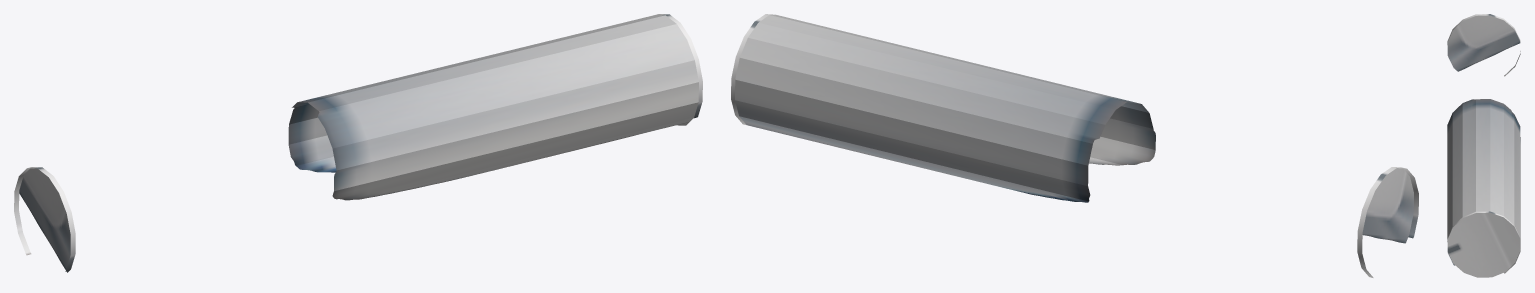
File: big_white_tube_with_gap.dae
3 views of the same model, side by side, from view 1: azimuth 30°, elevation 25°; view 2: azimuth 150°, elevation 25°; view 3: azimuth 270°, elevation 25° (orthographic). The views are drawn at different scales.
Visible parts, largest first — view 1: Cylinder_000; view 2: Cylinder_000; view 3: Cylinder_000.
Part boxes in pixels (left/top/right/bottom): Cylinder_000: left=14, top=14, right=702, bottom=272; Cylinder_000: left=731, top=14, right=1418, bottom=277; Cylinder_000: left=1447, top=14, right=1520, bottom=277.
Size of the model in its own units: 12.67 by 1.97 by 1.97.
